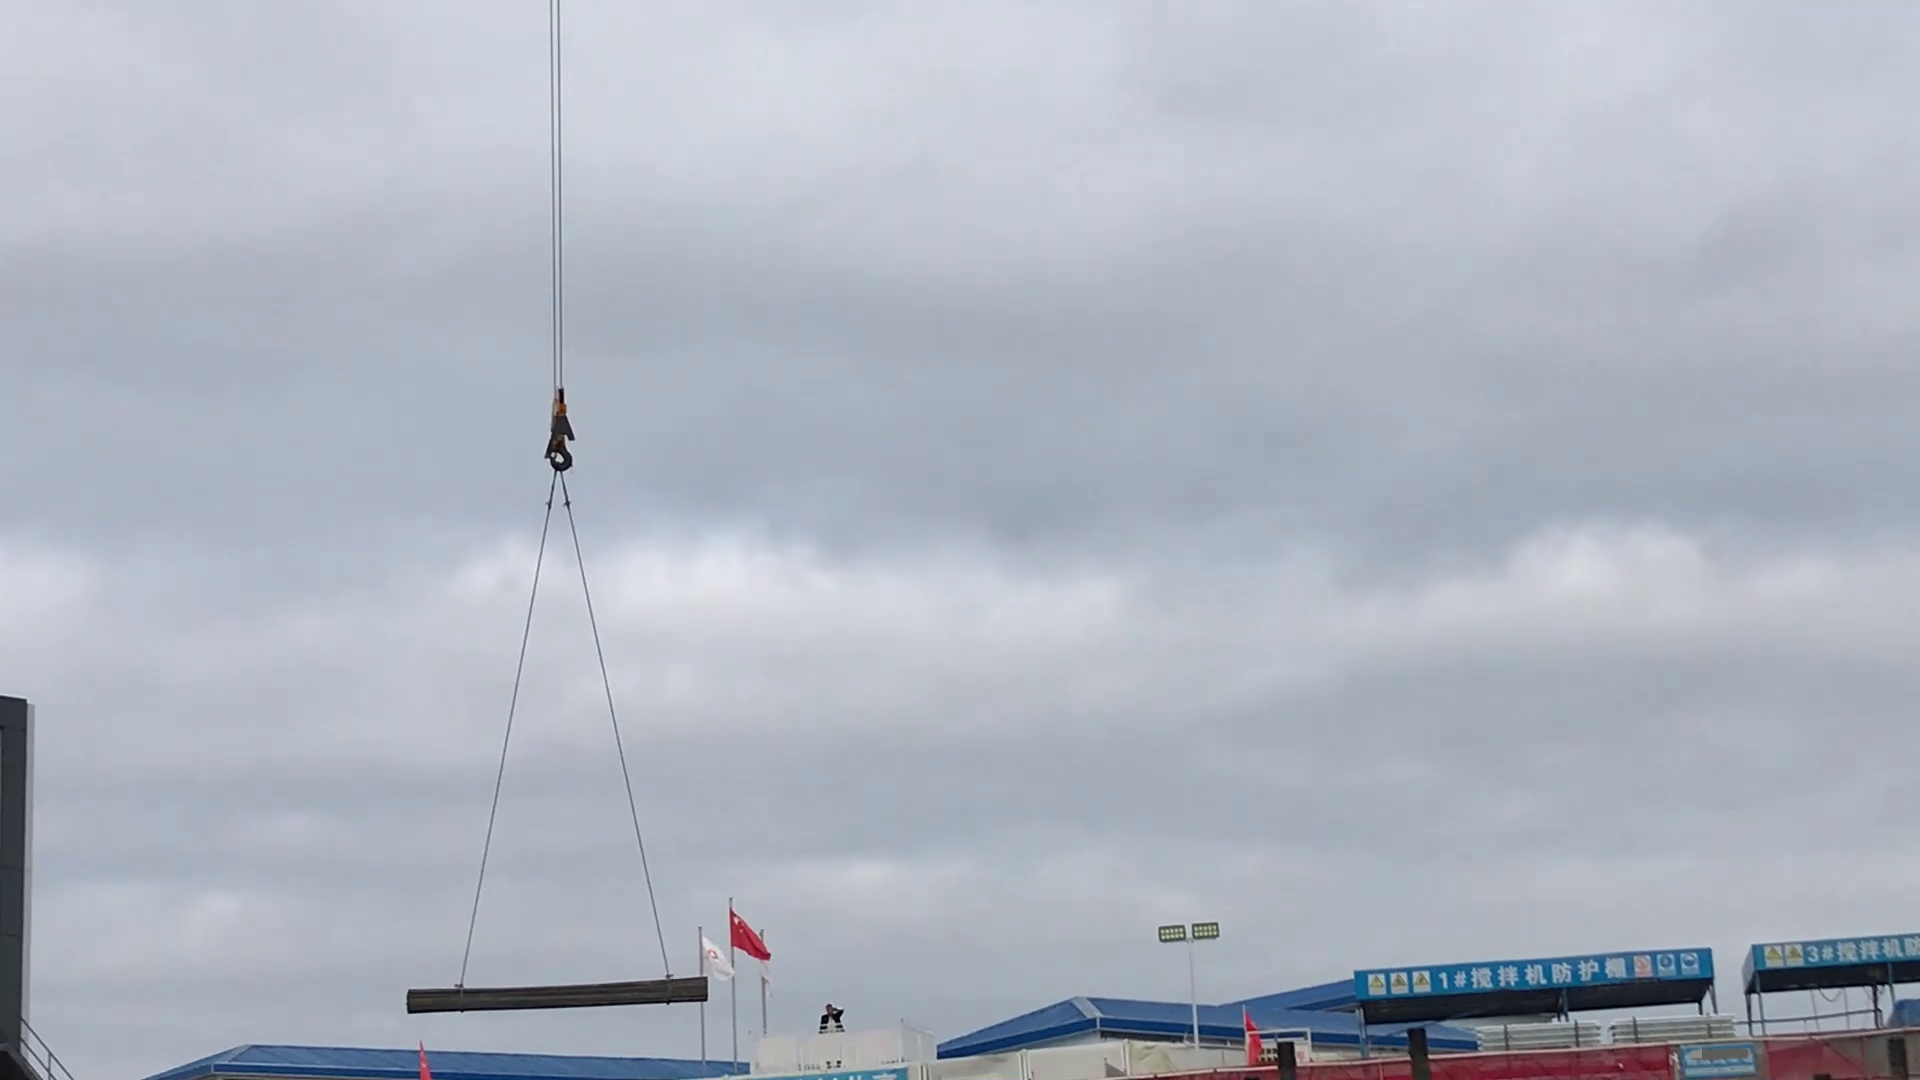fence: (1312, 1021, 1894, 1080)
hook: (531, 375, 585, 483)
rebar: (398, 969, 717, 1033)
